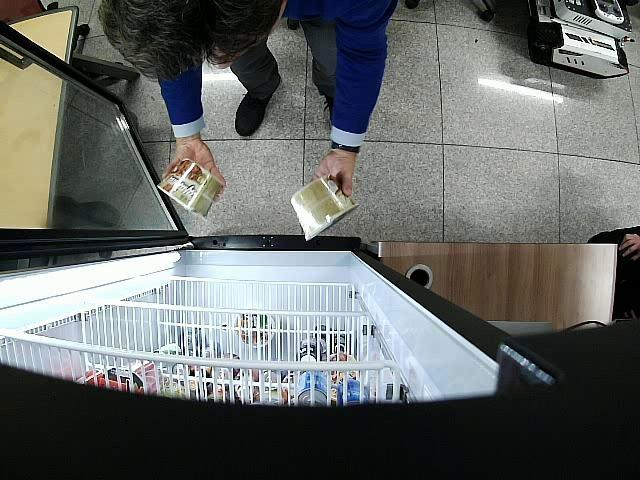03_chapagetti_L: (292, 176, 359, 241), (158, 159, 222, 220)
